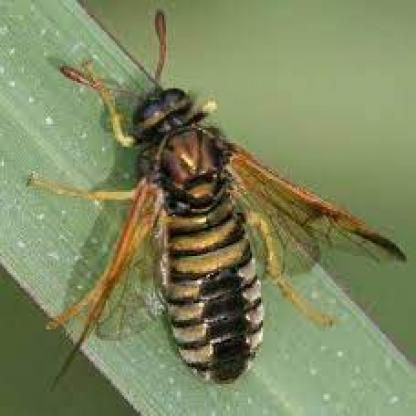sawfly: (17, 8, 409, 385)
